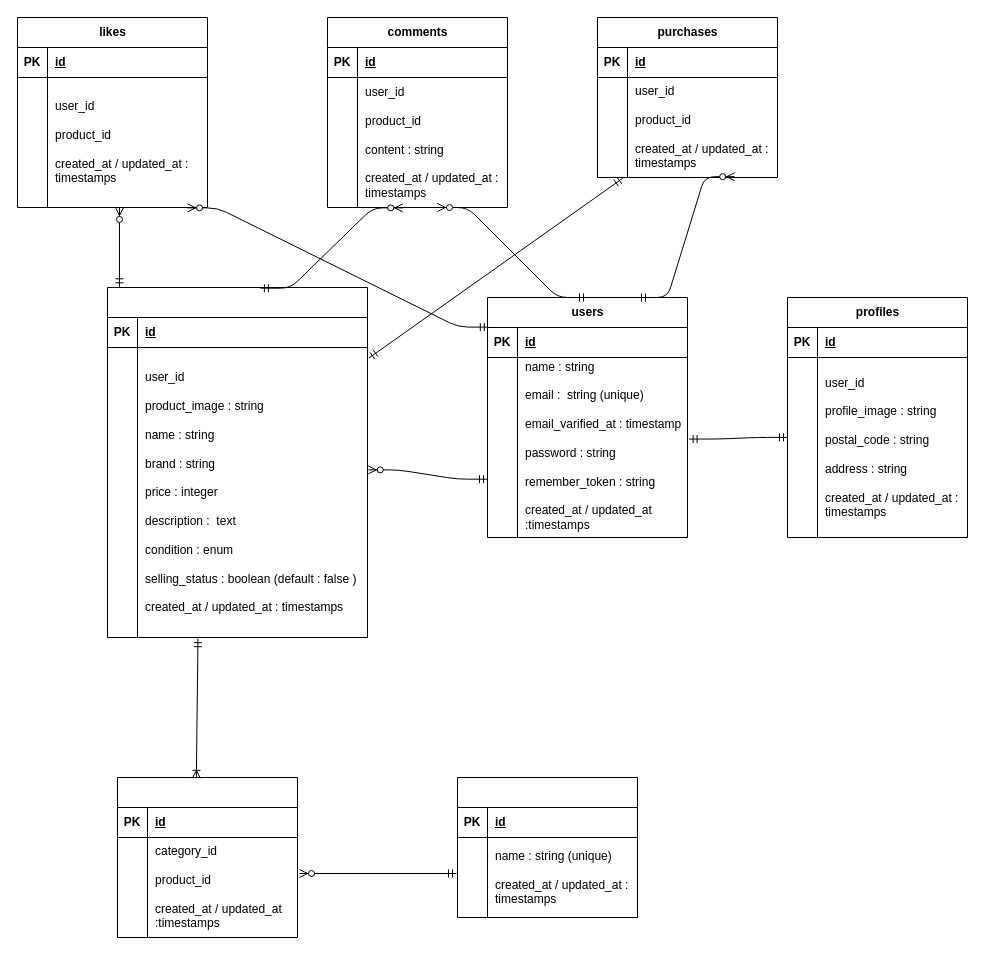
This 985x955 diagram has some shape labels left out. The shapes that lost their labels are listed below. From the top down, each one's box as (x1, y1, x2, y2) in pixels, then its label:
(106, 286, 368, 638): products
(116, 776, 298, 938): category_product
(456, 776, 638, 918): categories
